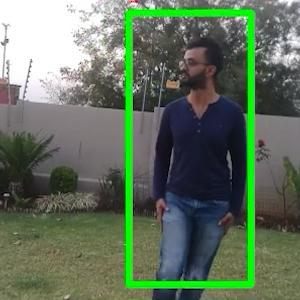follow: (159, 33, 243, 265)
